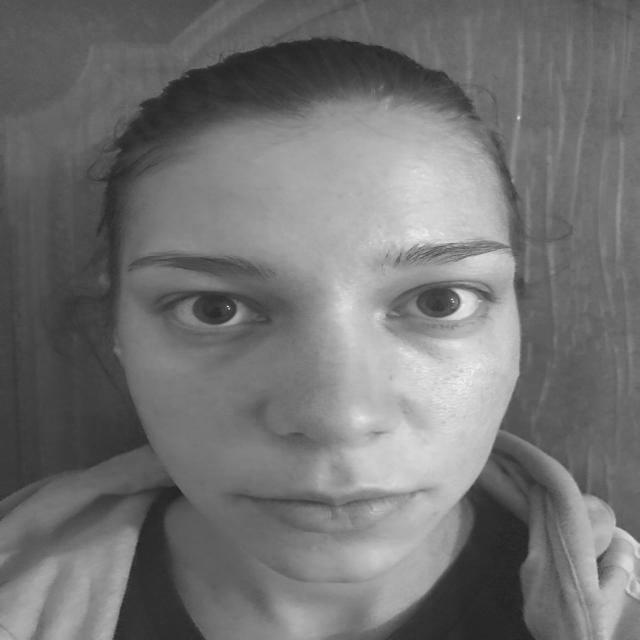real: (104, 55, 514, 569)
